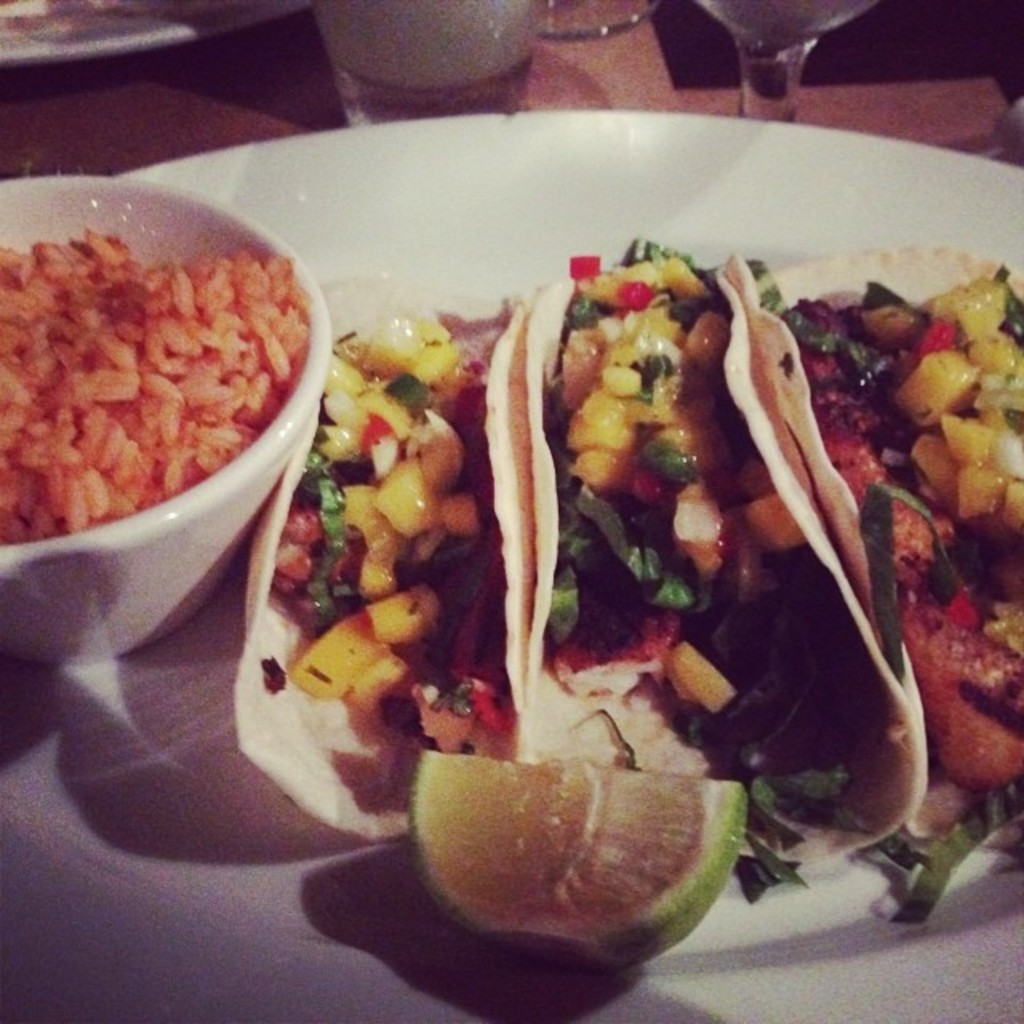salad: (274, 213, 1022, 917)
